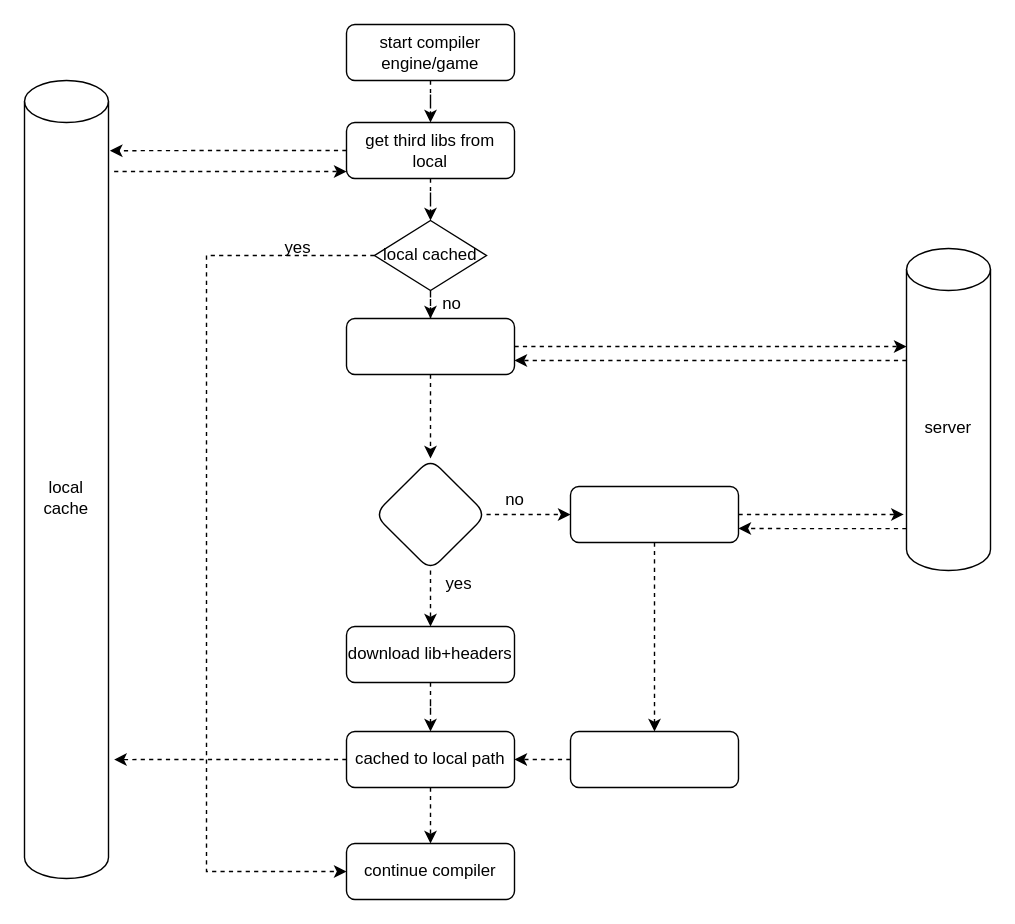
Image size: 1015x924. Some labels were removed from this diagram. Here are the shapes that lost their labels. From the top down, the centre of each, then its label:
At (429,345): "request lib from server".
At (429,513): "has Suitable lib".
At (653,513): "download source".
At (653,759): "compile libs".
